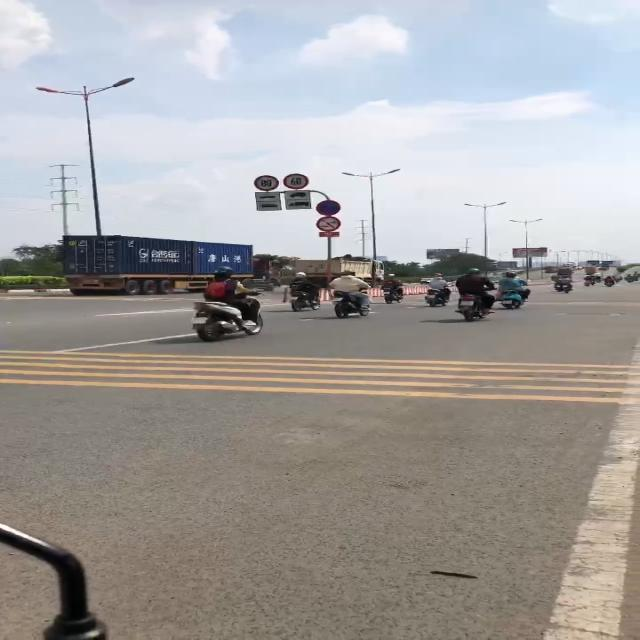Bien bao toc do toi da cho phep: (280, 172, 310, 190), (254, 174, 281, 191)
